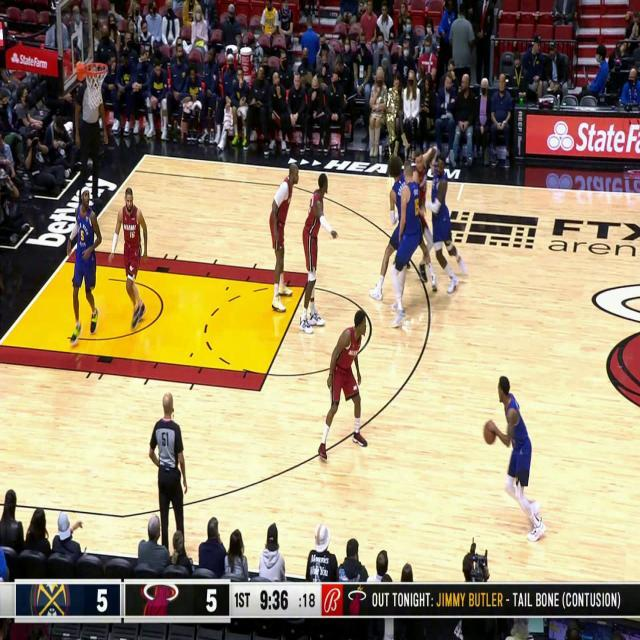rim: (483, 422, 496, 444)
